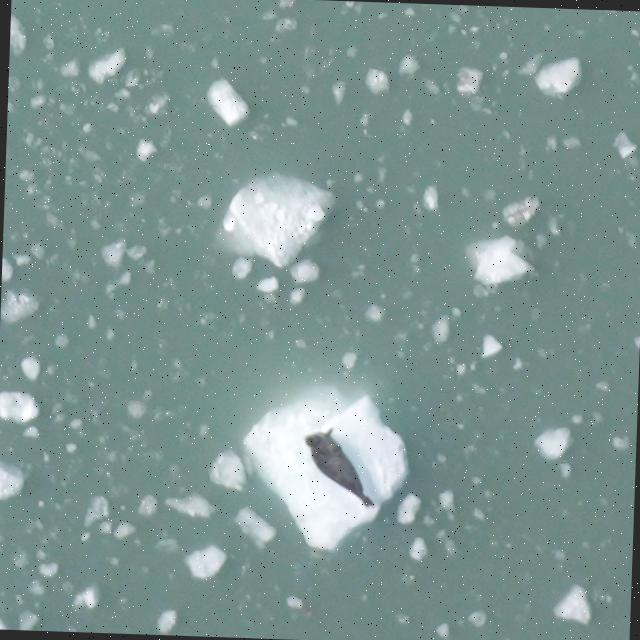seal: (298, 421, 377, 511)
